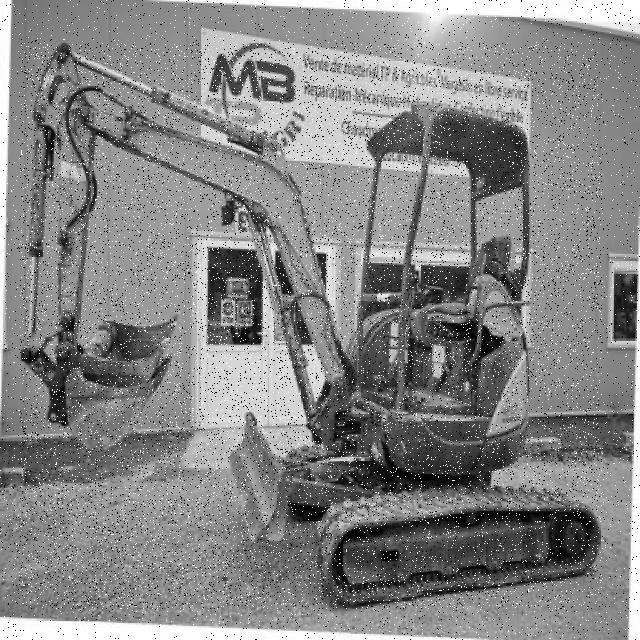Construction Equipment: (20, 43, 602, 609)
